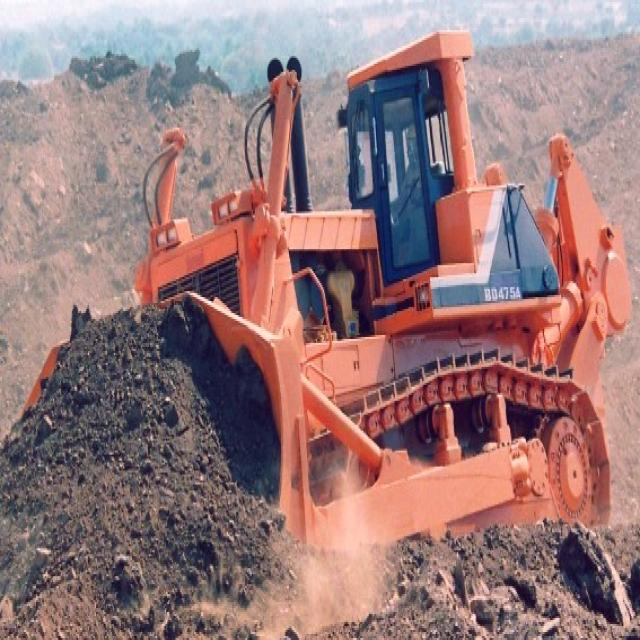buldozerpayloadergrader: (32, 30, 634, 592)
